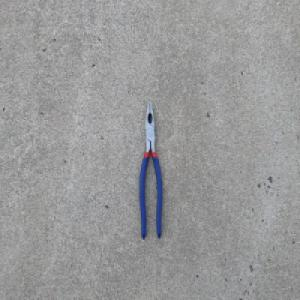Pliers: (138, 98, 163, 241)
